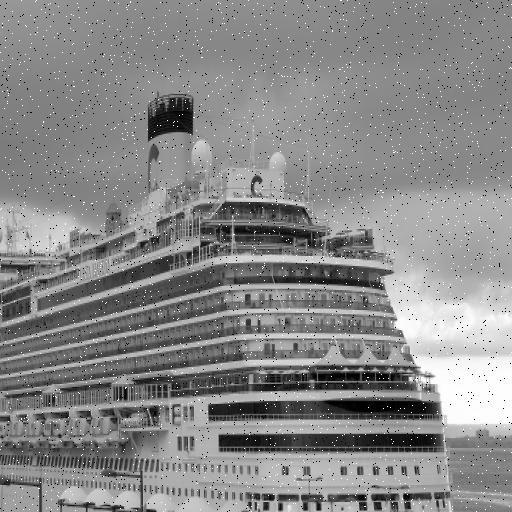cruises: (1, 82, 462, 512)
